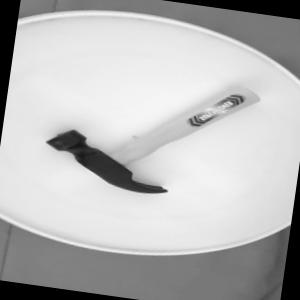martelo: (39, 57, 264, 209)
